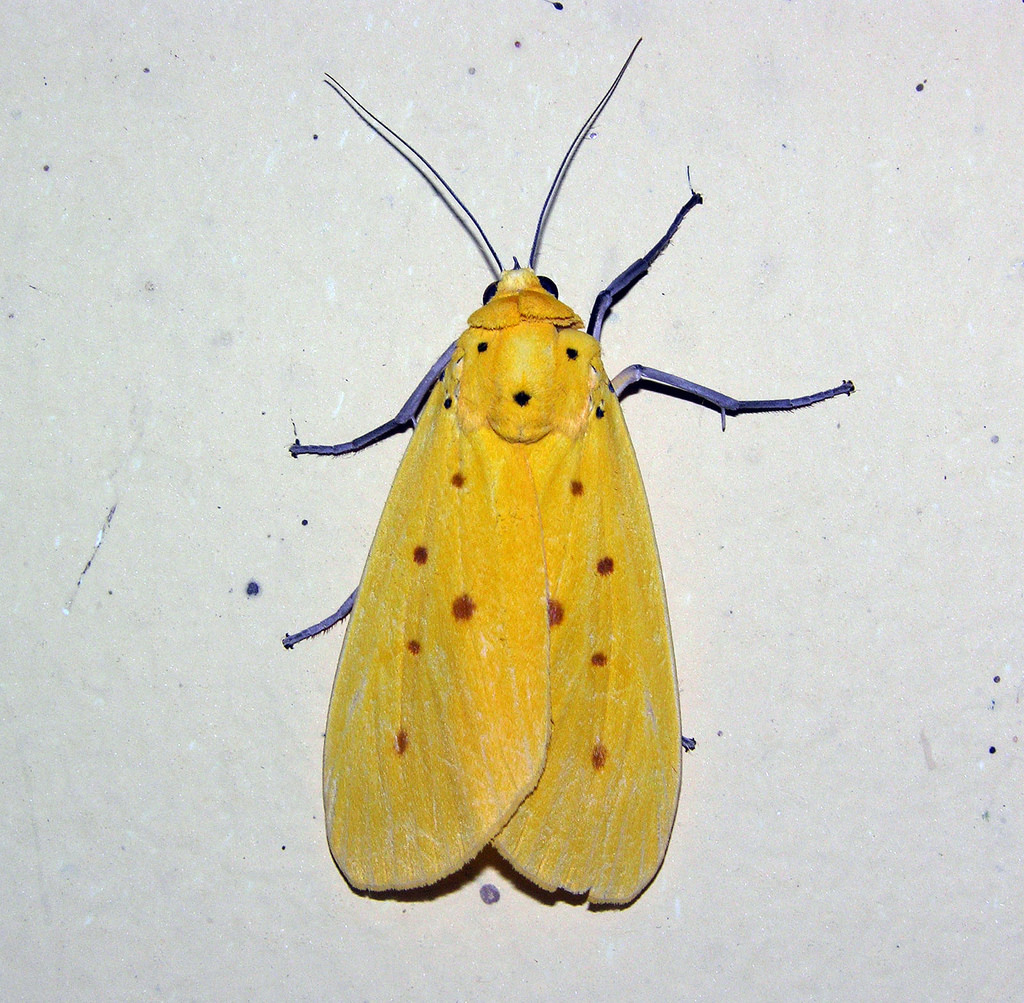Agape chloropyga: (273, 41, 867, 936)
moth: (271, 39, 865, 934)
